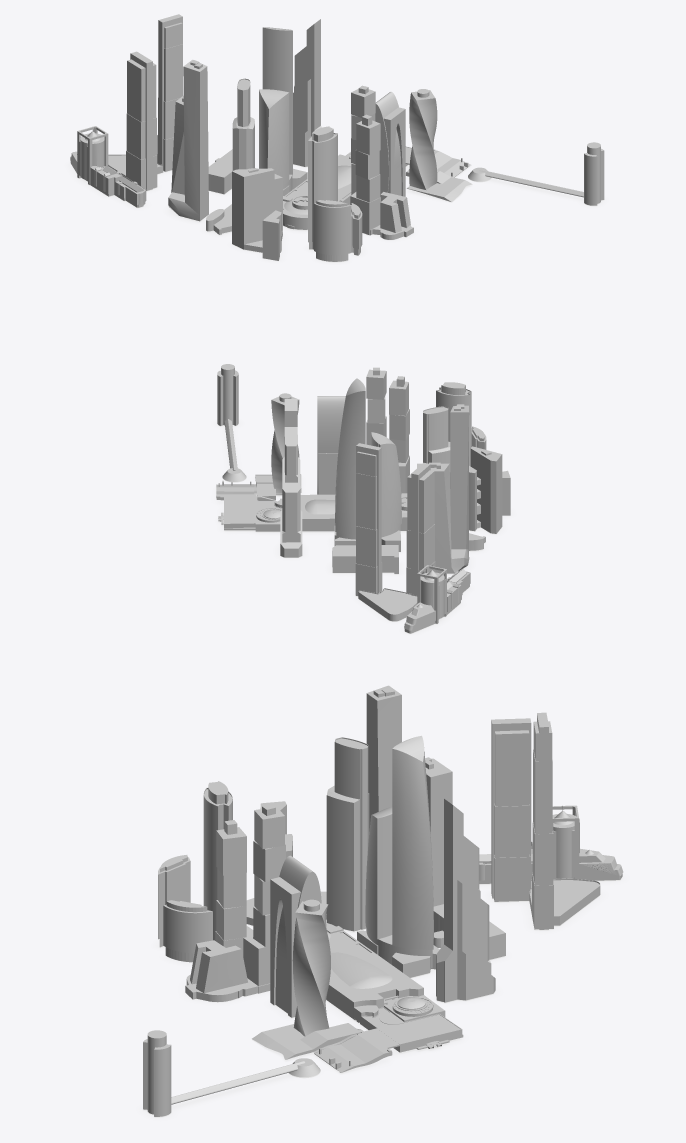
The model's file is city-3d.gltf.
3 views of the same model, one above another, from view 1: azimuth 30°, elevation 25°; view 2: azimuth 150°, elevation 25°; view 3: azimuth 270°, elevation 25° (orthographic). The views are drawn at different scales.
Parts seen in each view (by area): view 1: SketchUp, Plane; view 2: SketchUp, Plane; view 3: SketchUp, Plane.
Boxes of the visible parts, x1,y1,x2,y2 form: SketchUp: [70, 14, 604, 261]; Plane: [69, 163, 604, 263]; SketchUp: [216, 364, 510, 633]; Plane: [215, 421, 512, 634]; SketchUp: [143, 685, 623, 1116]; Plane: [142, 876, 623, 1118].
Bounding box in the file's own units: 1014 × 374 × 1014.
2 materials, 1 textured.
